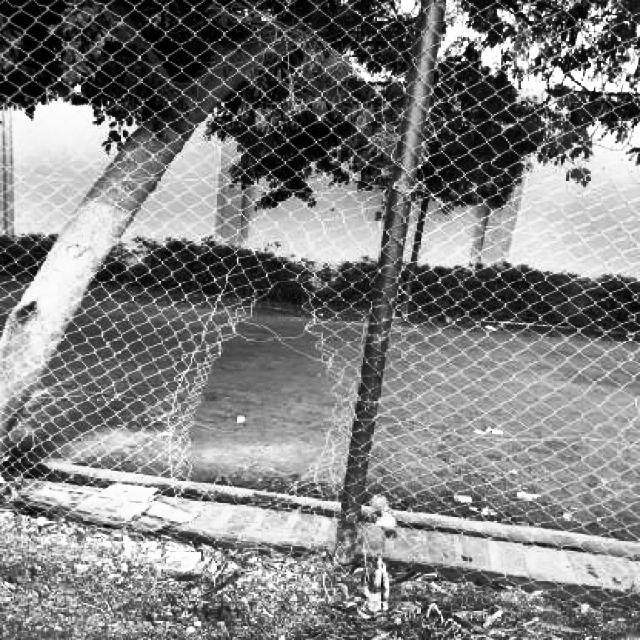anomaly-fence: (160, 237, 365, 515)
